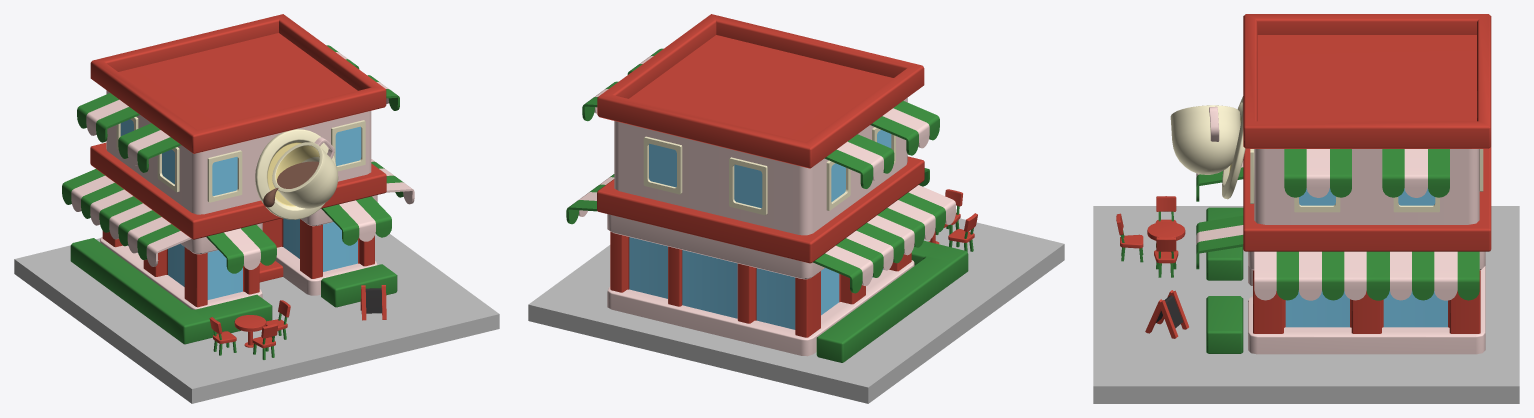
File: coffee_house.fbx
3 renders of one model, left to right at view 1: azimuth 30°, elevation 25°; view 2: azimuth 150°, elevation 25°; view 3: azimuth 270°, elevation 25°, orthographic. The views are drawn at different scales.
Visible parts, largest first — view 1: House, Nen; view 2: House, Nen; view 3: House, Nen.
Part boxes in pixels (x1,y1,x2,y2): House: (62, 14, 414, 359); Nen: (14, 233, 499, 403); House: (566, 14, 977, 362); Nen: (528, 218, 1064, 403); House: (1116, 14, 1491, 354); Nen: (1093, 206, 1519, 403).
Size of the model in its own units: 1300 by 835 by 1300.
